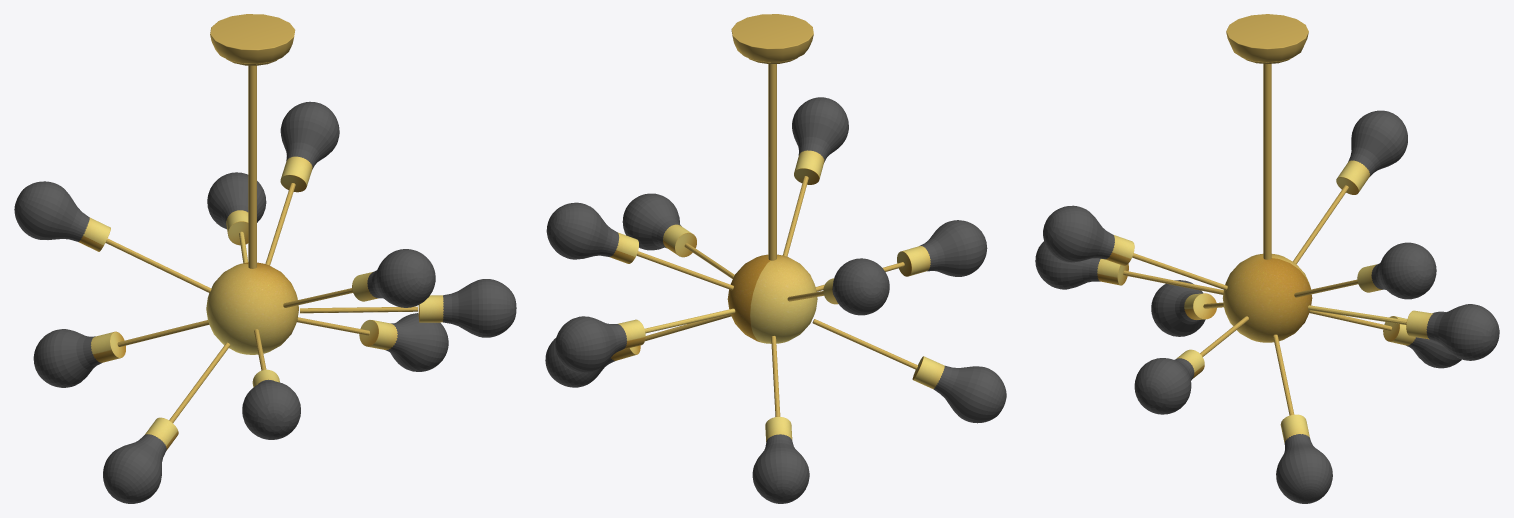
Rendered from Ceiling Lamp.fbx.
3 renders of one model, left to right at view 1: azimuth 30°, elevation 25°; view 2: azimuth 150°, elevation 25°; view 3: azimuth 270°, elevation 25°, orthographic. The views are drawn at different scales.
Visible parts, largest first — view 1: Lamp; view 2: Lamp; view 3: Lamp.
Boxes of the visible parts, x1,y1,x2,y2 form: Lamp: (14, 14, 516, 503); Lamp: (545, 14, 1006, 503); Lamp: (1035, 14, 1499, 503).
Size of the model in its own units: 140 by 132 by 145.
